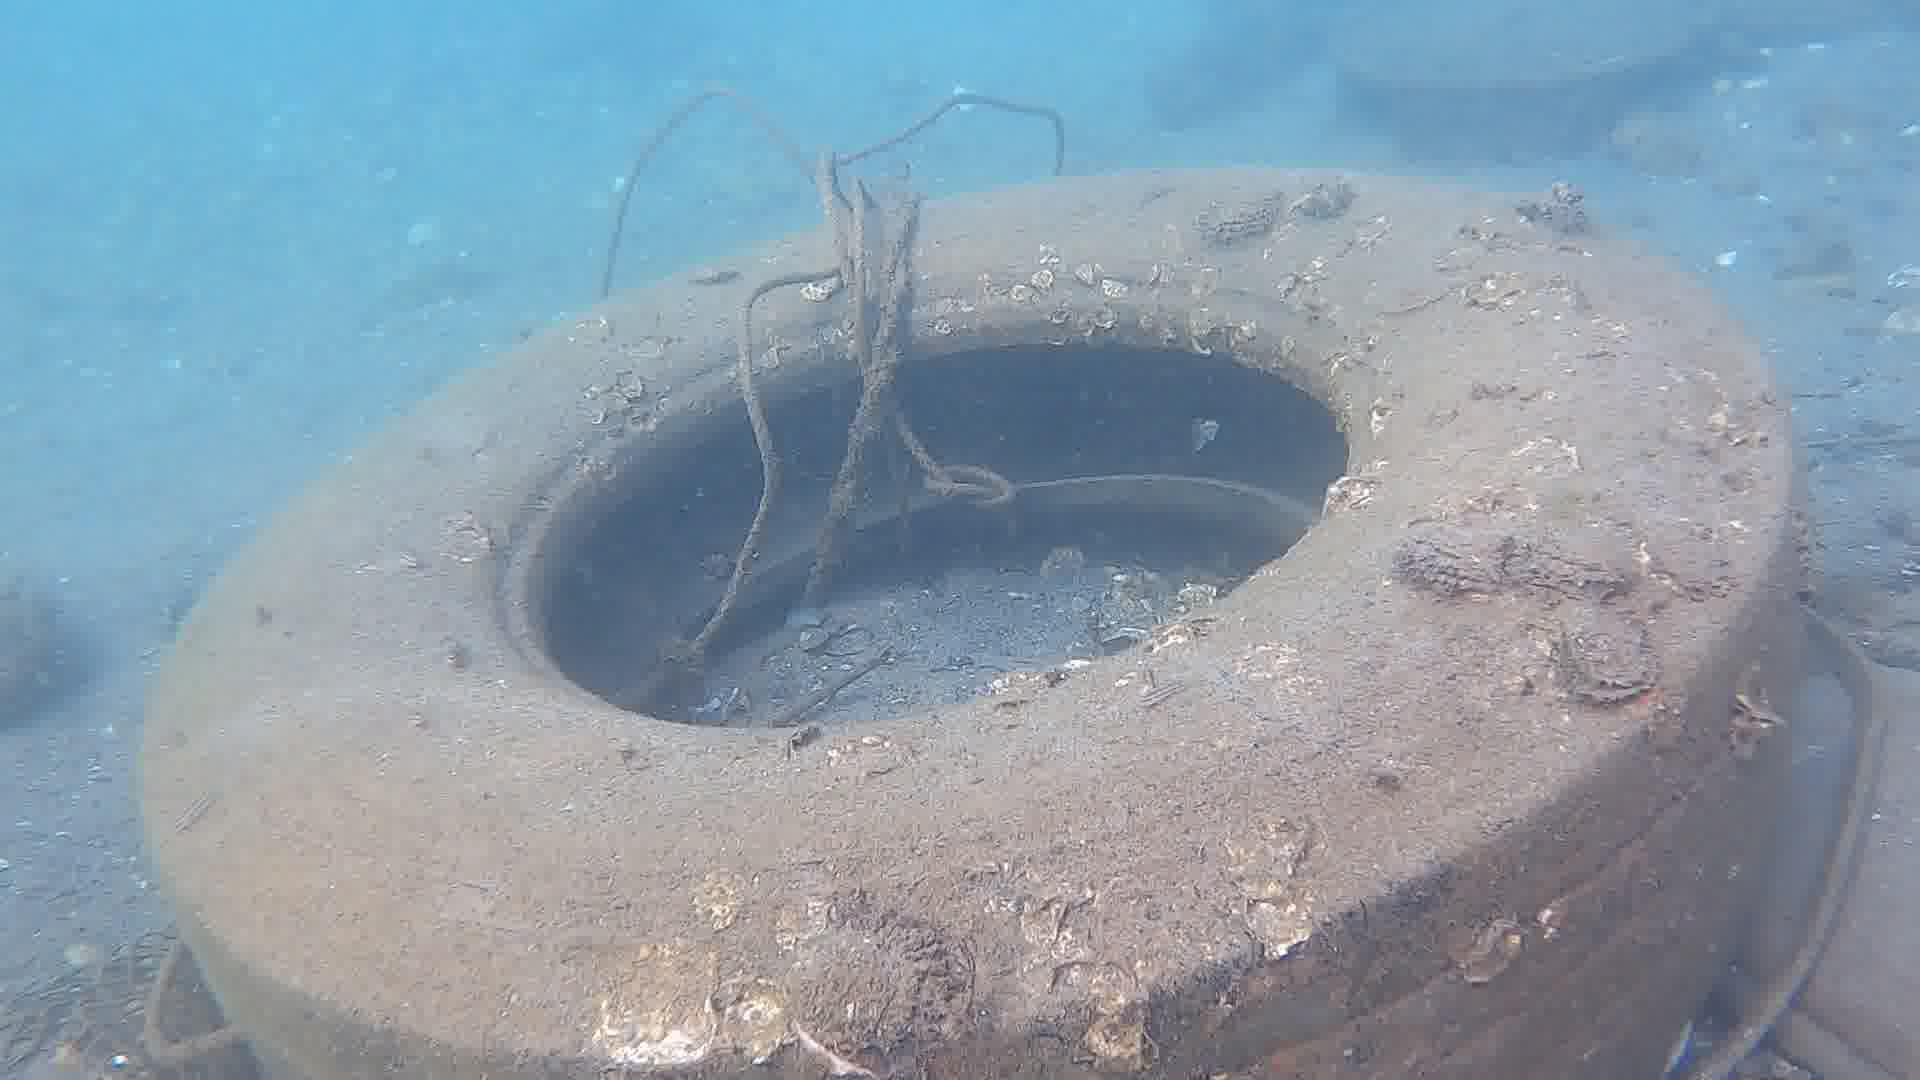bundle of ropes: (600, 84, 1064, 642)
tire: (131, 156, 1799, 1080)
